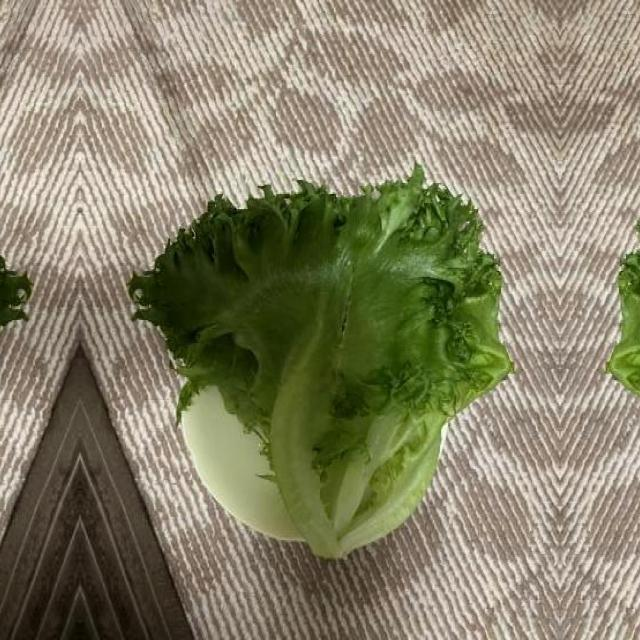healthy: (134, 165, 512, 560), (608, 165, 640, 560), (0, 165, 26, 560)
